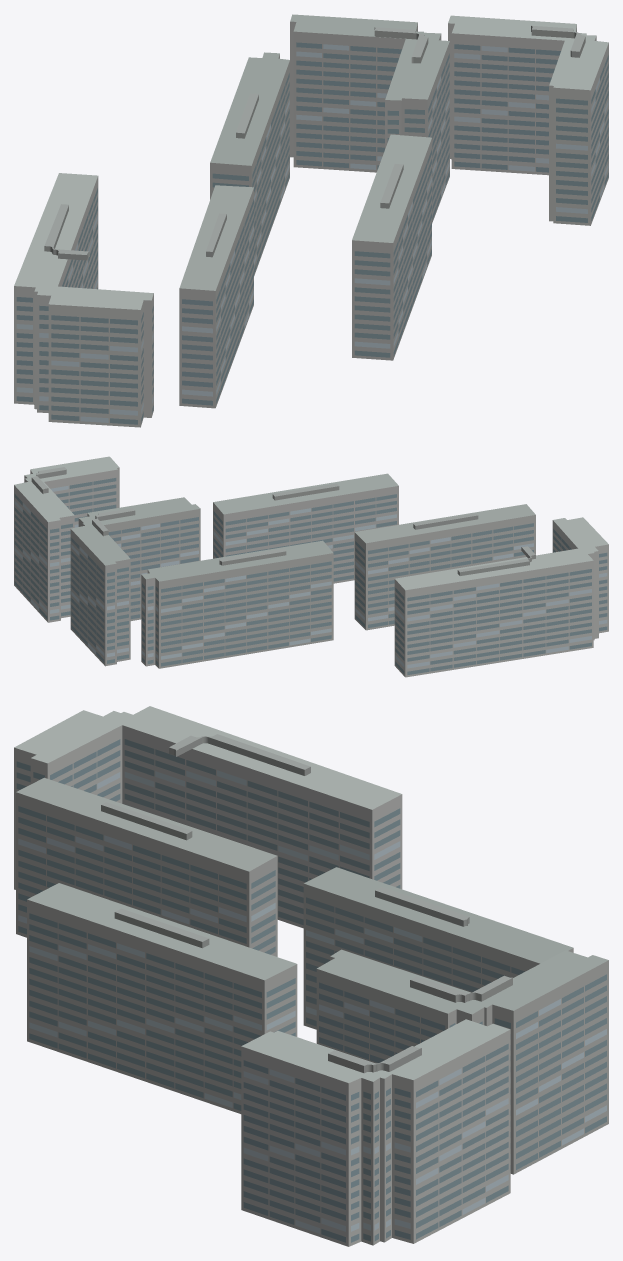
File: apt-a12081703.glb
The picture shows the model from 3 angles, top to bottom: view 1: azimuth 30°, elevation 25°; view 2: azimuth 150°, elevation 25°; view 3: azimuth 270°, elevation 25°; orthographic projection. The views are drawn at different scales.
Visible parts, largest first — view 1: apt-a12081703; view 2: apt-a12081703; view 3: apt-a12081703.
Boxes of the visible parts, box(x1,y1,x2,y2) form: apt-a12081703: box(14, 14, 608, 427); apt-a12081703: box(14, 456, 608, 677); apt-a12081703: box(14, 706, 608, 1246).
Size of the model in its own units: 239 by 47.81 by 151.
